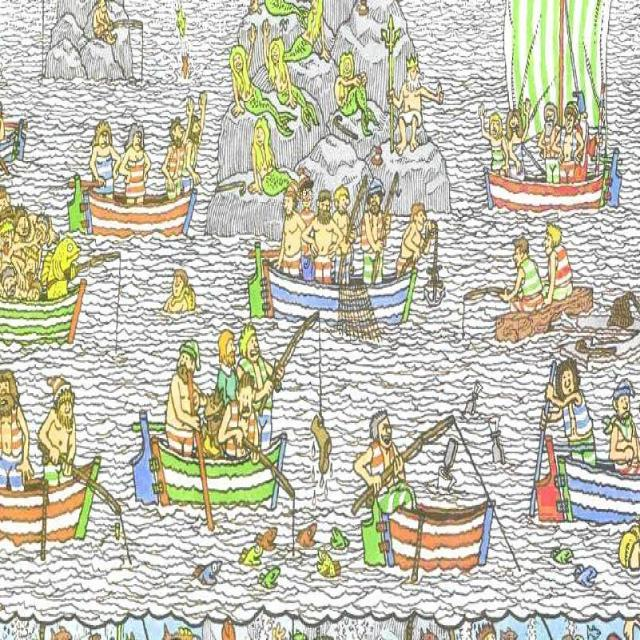waldo: (297, 166, 314, 209)
